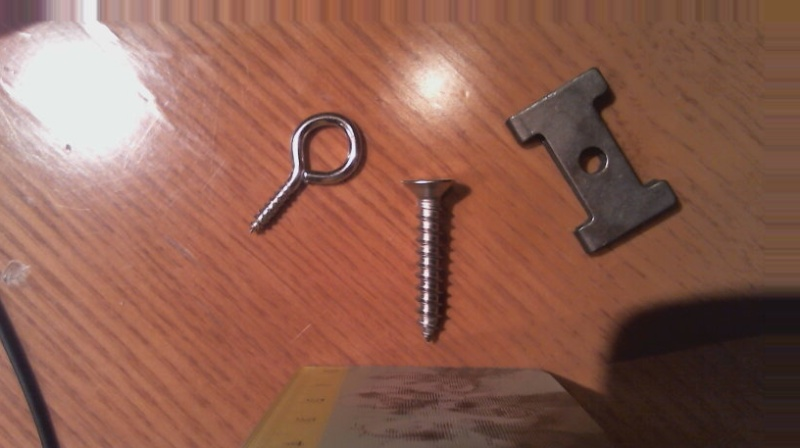O001: (245, 110, 368, 240)
O002: (506, 65, 684, 258)
S001: (398, 171, 459, 344)
